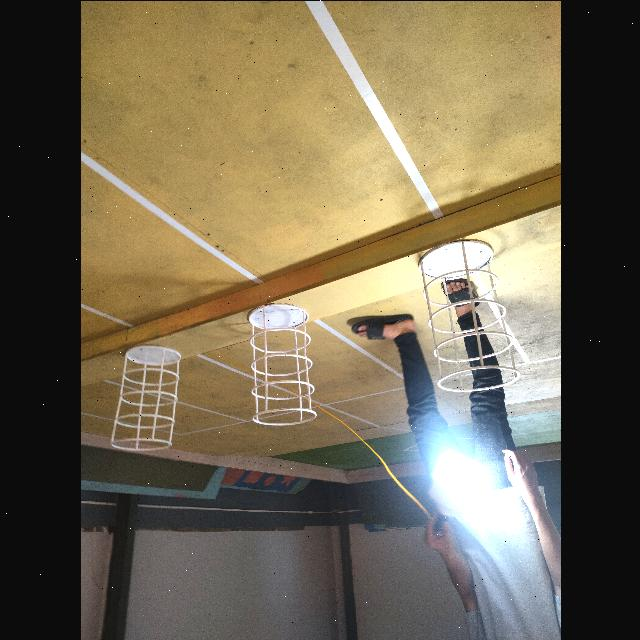S: (416, 240, 522, 394), (245, 301, 317, 427), (108, 343, 182, 451)
